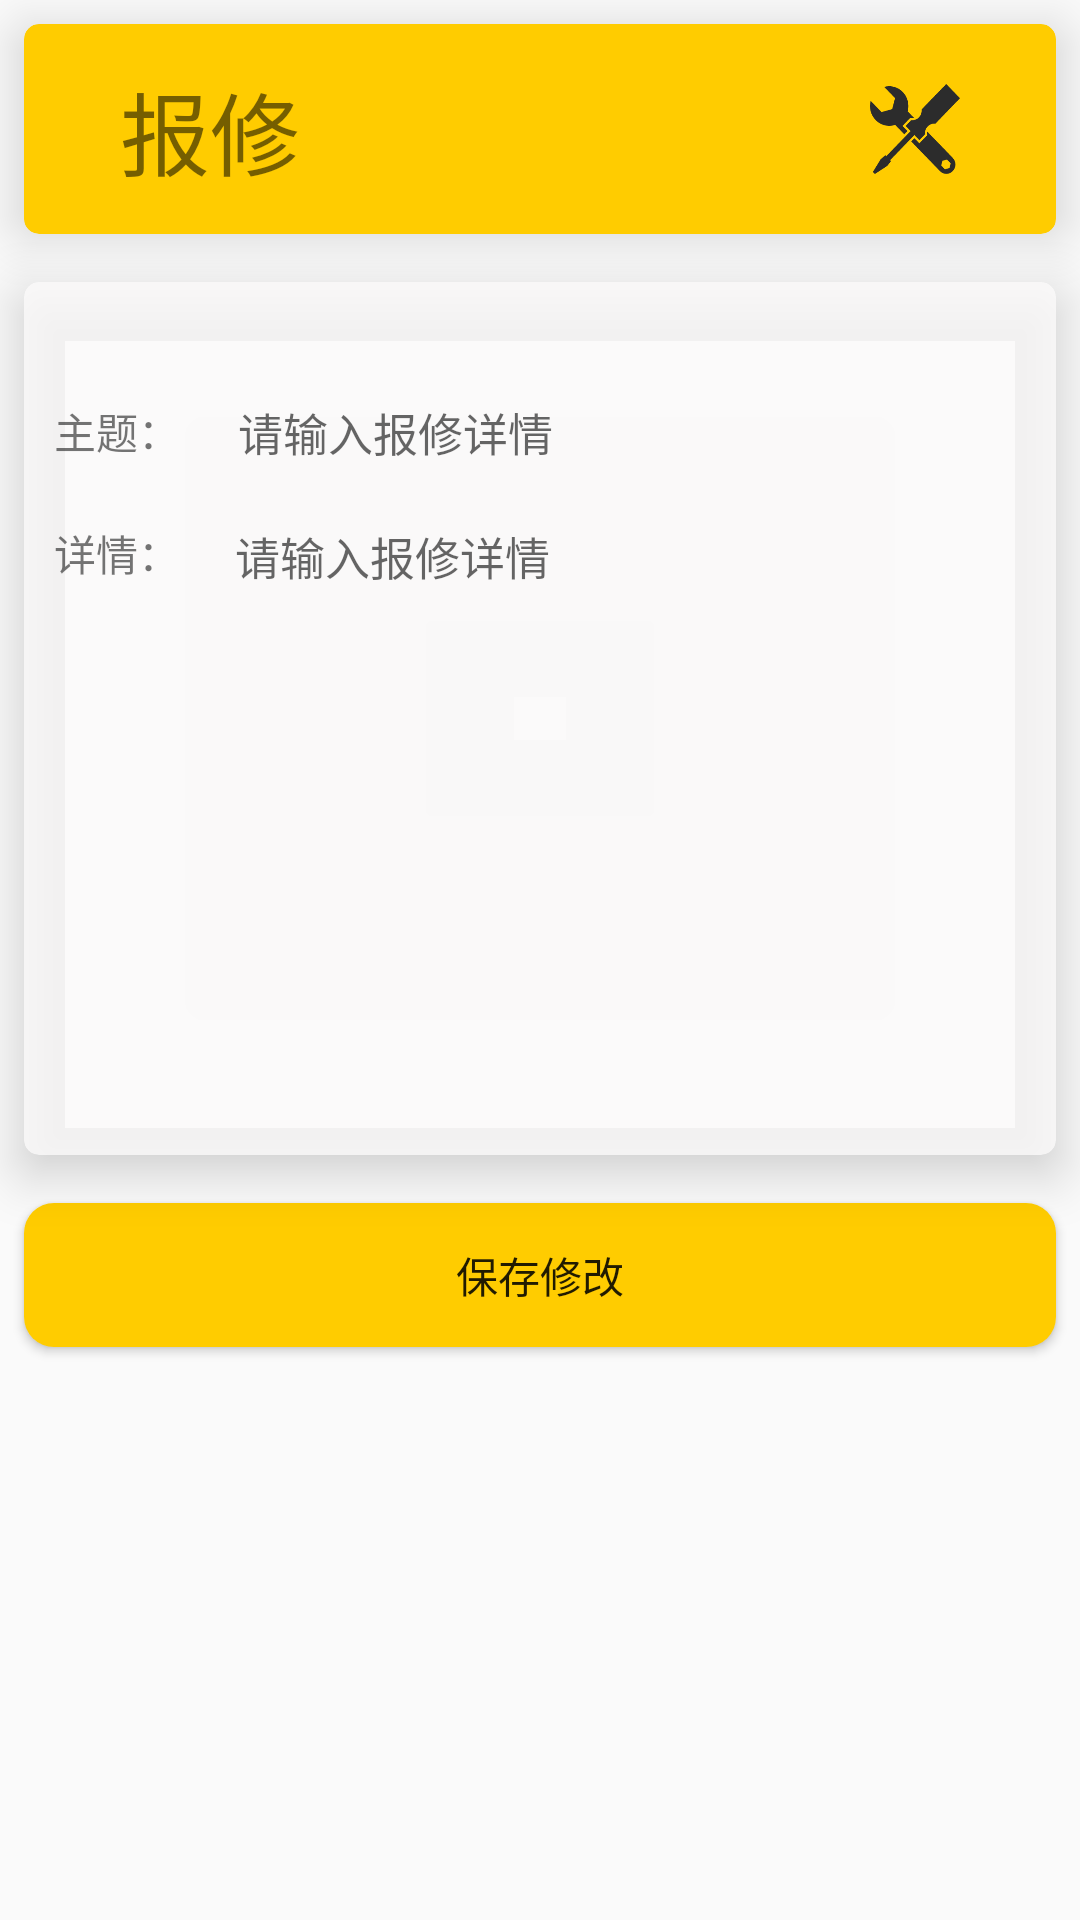

Icon bounding boxes for this 1080x1920 phone screenshot, format (x1, y1, x2, y2):
repair: (870, 84, 960, 174)
